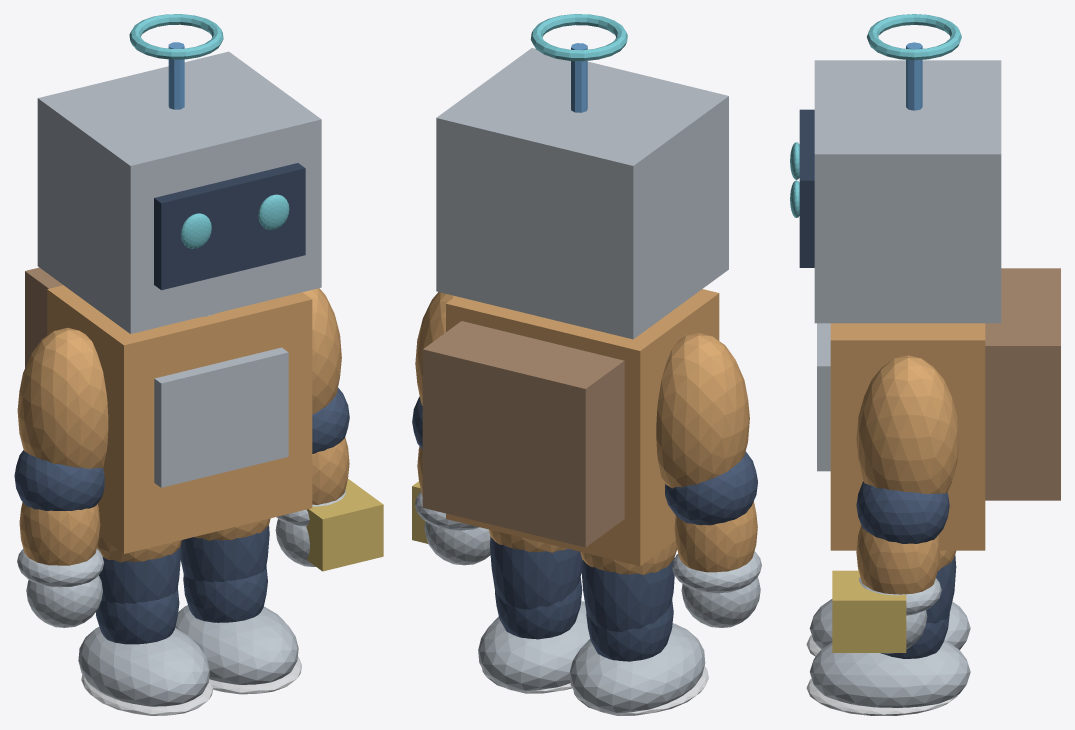
Rendered from avatar_ai_content_publisher_v3.glb.
3 renders of one model, left to right at view 1: azimuth 30°, elevation 25°; view 2: azimuth 150°, elevation 25°; view 3: azimuth 270°, elevation 25°, orthographic. The views are drawn at different scales.
Parts seen in each view (by area): view 1: head_shell, body_core, chest_plate, face_screen, L_sleeve_upper, L_shoe, R_shoe, parcel_hand, L_sleeve_lower, L_elbow, R_leg, R_leg_bottom (+17 smaller); view 2: head_shell, parcel_backpack, body_core, L_sleeve_upper, L_shoe, R_shoe, L_leg, R_leg, L_elbow, L_sleeve_lower, L_leg_bottom, R_leg_bottom (+10 smaller); view 3: head_shell, body_core, parcel_backpack, R_sleeve_upper, R_shoe, parcel_hand, R_elbow, R_sleeve_lower, face_screen, upload_ring, chest_plate, L_shoe (+6 smaller).
Boxes of the visible parts, x1,y1,x2,y2 form: head_shell: [37, 51, 321, 333]; body_core: [47, 285, 312, 553]; chest_plate: [154, 347, 288, 487]; face_screen: [154, 163, 305, 290]; L_sleeve_upper: [17, 327, 108, 468]; L_shoe: [78, 627, 209, 706]; R_shoe: [175, 605, 298, 684]; parcel_hand: [306, 479, 383, 571]; L_sleeve_lower: [19, 502, 100, 565]; L_elbow: [14, 450, 104, 510]; R_leg: [180, 526, 269, 582]; R_leg_bottom: [183, 566, 267, 622]; head_shell: [436, 48, 728, 339]; parcel_backpack: [422, 321, 624, 547]; body_core: [446, 289, 719, 566]; L_sleeve_upper: [656, 333, 749, 488]; L_shoe: [569, 623, 705, 715]; R_shoe: [478, 601, 590, 693]; L_leg: [581, 557, 674, 631]; R_leg: [490, 536, 581, 609]; L_elbow: [665, 451, 757, 525]; L_sleeve_lower: [674, 501, 757, 572]; L_leg_bottom: [586, 599, 673, 661]; R_leg_bottom: [495, 577, 582, 639]; head_shell: [814, 60, 1001, 323]; body_core: [830, 323, 985, 550]; parcel_backpack: [985, 268, 1060, 500]; R_sleeve_upper: [856, 355, 959, 493]; R_shoe: [810, 640, 970, 707]; parcel_hand: [832, 570, 906, 652]; R_elbow: [856, 481, 949, 543]; R_sleeve_lower: [856, 525, 939, 594]; face_screen: [799, 109, 814, 267]; upload_ring: [867, 14, 961, 60]; chest_plate: [817, 323, 830, 471]; L_shoe: [809, 599, 970, 649].
Bounding box in the file's own units: 1.19 × 2.24 × 0.841.
